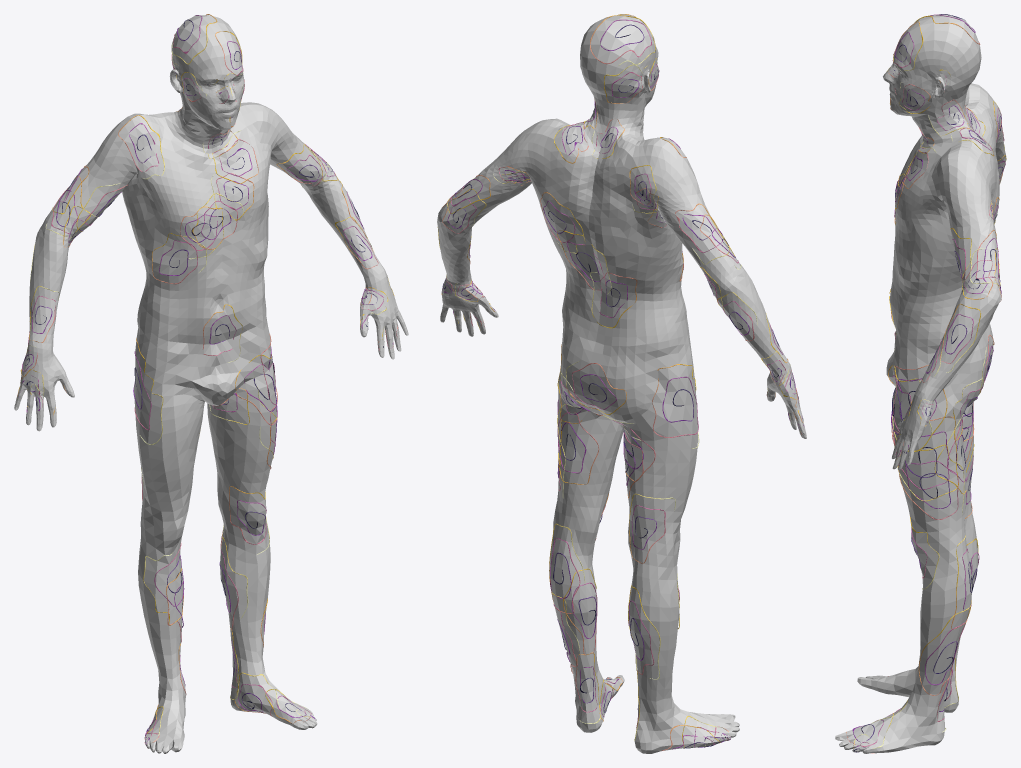
File: body_ours_l3_spiral_repositioned.glb
The picture shows the model from 3 angles, left to right: view 1: azimuth 30°, elevation 25°; view 2: azimuth 150°, elevation 25°; view 3: azimuth 270°, elevation 25°; orthographic projection. The views are drawn at different scales.
Visible parts, largest first — view 1: imagetostl_mesh0; view 2: imagetostl_mesh0; view 3: imagetostl_mesh0.
Boxes of the visible parts, x1,y1,x2,y2 form: imagetostl_mesh0: (14,14,408,753); imagetostl_mesh0: (437,14,806,753); imagetostl_mesh0: (835,14,1006,753).
Bounding box in the file's own units: 1 × 1.79 × 0.3908.
